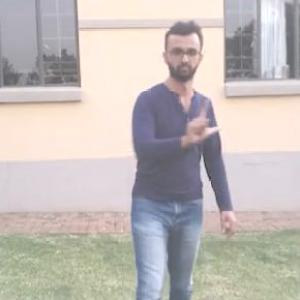land_hand: (178, 94, 222, 148)
